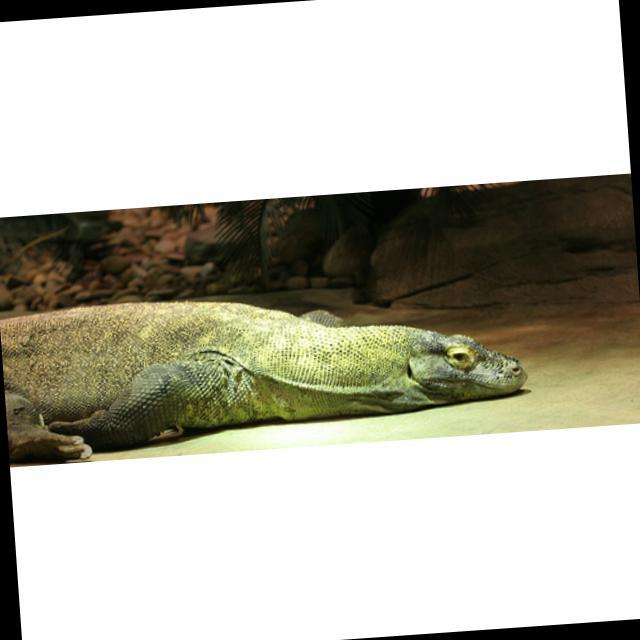KomodoDragon: (0, 277, 527, 465)
